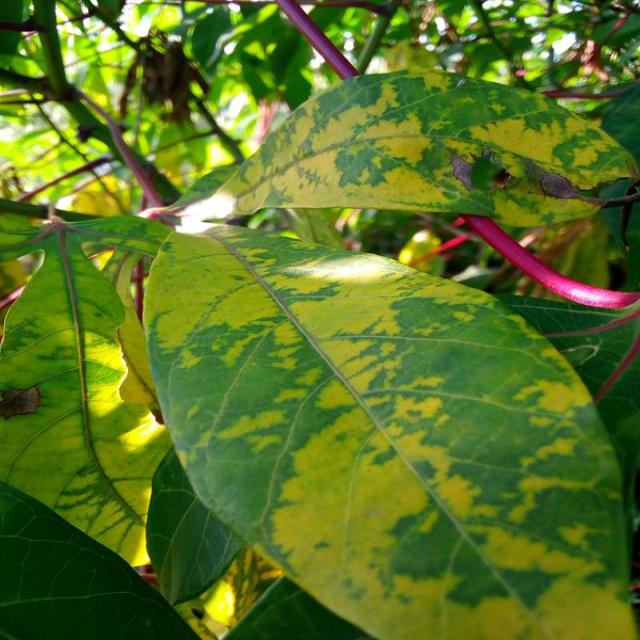cassava leaf: (142, 221, 636, 638), (215, 66, 638, 228), (0, 217, 172, 568)
